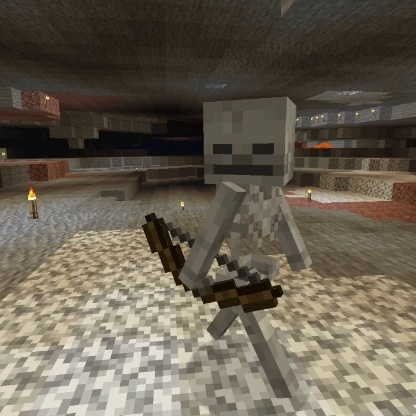skeleton: (139, 91, 317, 403)
